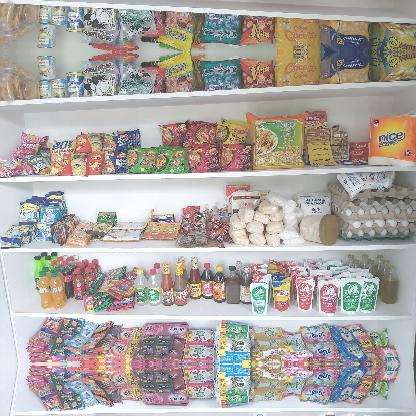Lady-s-Choice: (300, 214, 338, 245)
